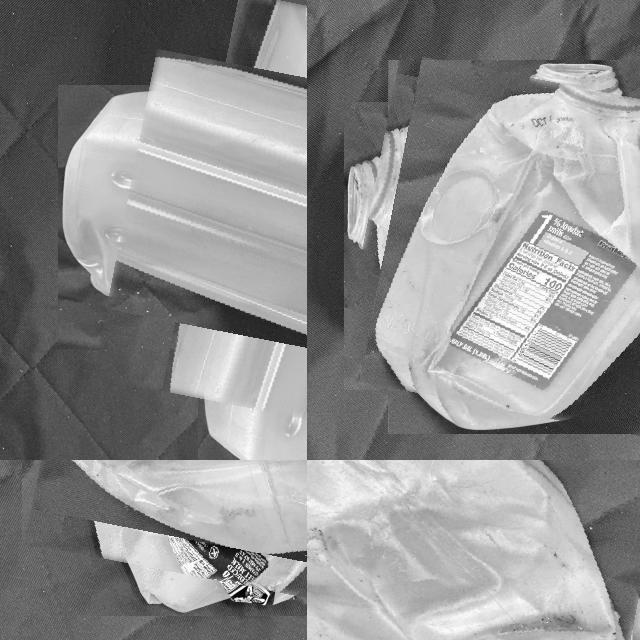milk-jug: (351, 66, 640, 426), (110, 0, 307, 437), (307, 460, 640, 640), (41, 460, 307, 598)
